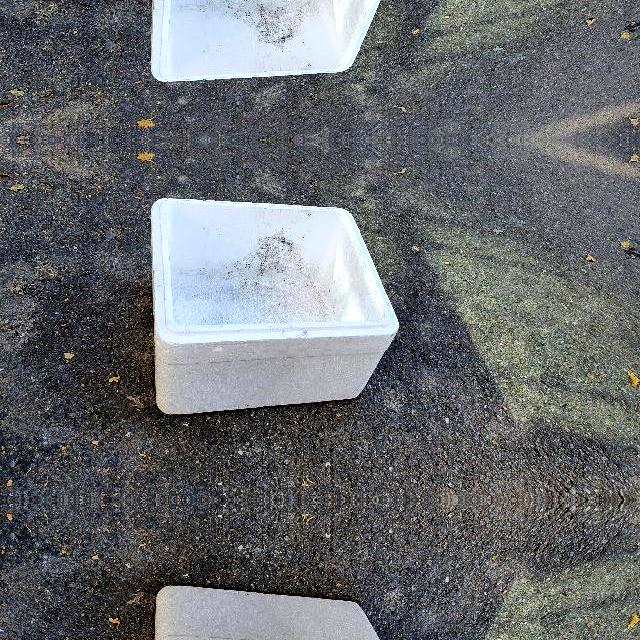Styrofoam: (150, 198, 400, 416), (151, 198, 399, 414), (149, 0, 400, 82), (151, 0, 381, 82), (149, 583, 400, 640), (155, 586, 380, 640)
